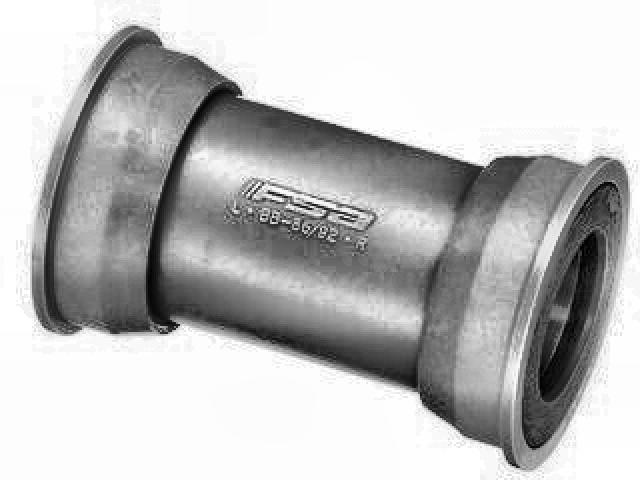bottom_bracket: (27, 21, 633, 470)
